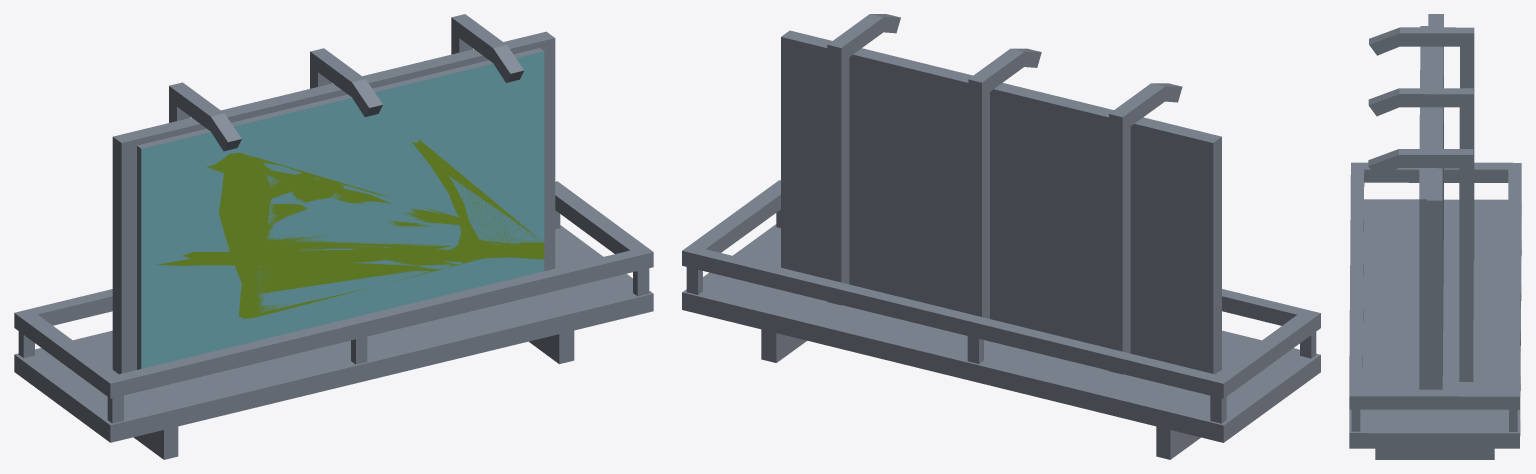
The model's file is Building_Objects_Bilboard_03.fbx.
3 views of the same model, side by side, from view 1: azimuth 30°, elevation 25°; view 2: azimuth 150°, elevation 25°; view 3: azimuth 270°, elevation 25° (orthographic). The views are drawn at different scales.
Visible parts, largest first — view 1: Building_Objects_Bilboard_03; view 2: Building_Objects_Bilboard_03; view 3: Building_Objects_Bilboard_03.
Boxes of the visible parts, box(x1,y1,x2,y2) form: Building_Objects_Bilboard_03: box(14, 14, 653, 459); Building_Objects_Bilboard_03: box(682, 14, 1320, 459); Building_Objects_Bilboard_03: box(1349, 14, 1521, 459).
Bounding box in the file's own units: 513 × 288 × 160.
